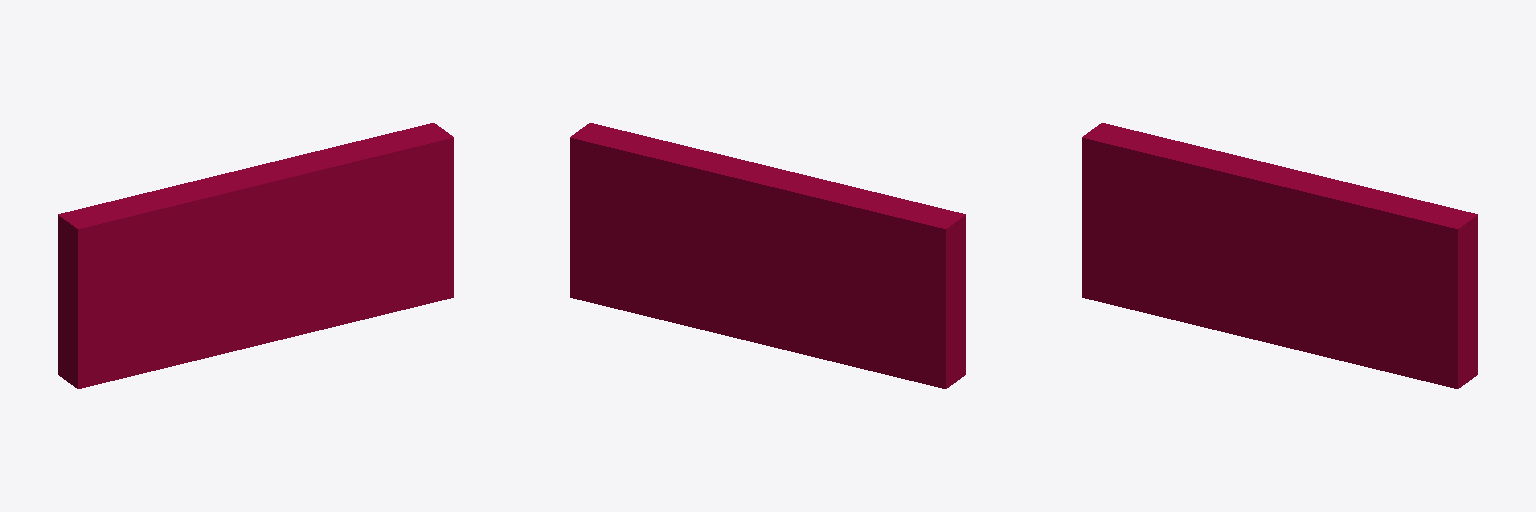
The model's file is wall.obj.
3 views of the same model, side by side, from view 1: azimuth 30°, elevation 25°; view 2: azimuth 150°, elevation 25°; view 3: azimuth 330°, elevation 25° (orthographic).
Visible parts, largest first — view 1: Cube; view 2: Cube; view 3: Cube.
Boxes of the visible parts, x1=… form: Cube: x1=58, y1=123, x2=453, y2=388; Cube: x1=570, y1=123, x2=965, y2=388; Cube: x1=1082, y1=123, x2=1477, y2=388.
Size of the model in its own units: 3.68 by 1.5 by 0.345.